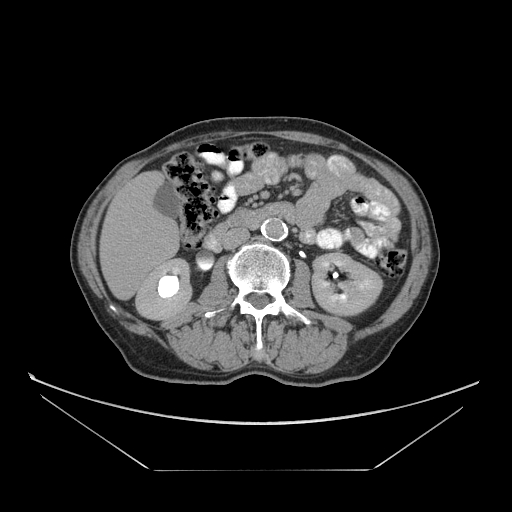left_kidney: (134, 251, 194, 322)
right_kidney: (310, 251, 386, 318)
